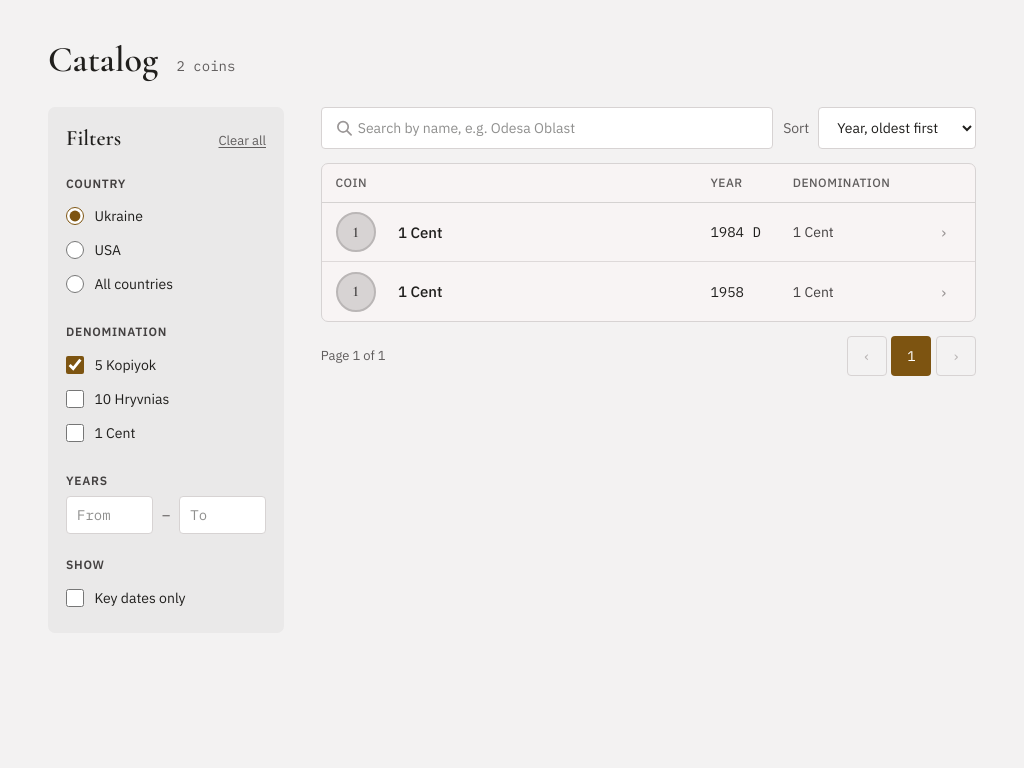
Test: CatalogPage › live filtering and URL sync (criteria #9, #10, #11) › changing country clears the ticked denominations in the same update
This screenshot has width=1024, height=768.
Click the radio button with test id "catalog-filter-country-USA".
click(75, 250)  # box [66,241,84,260]
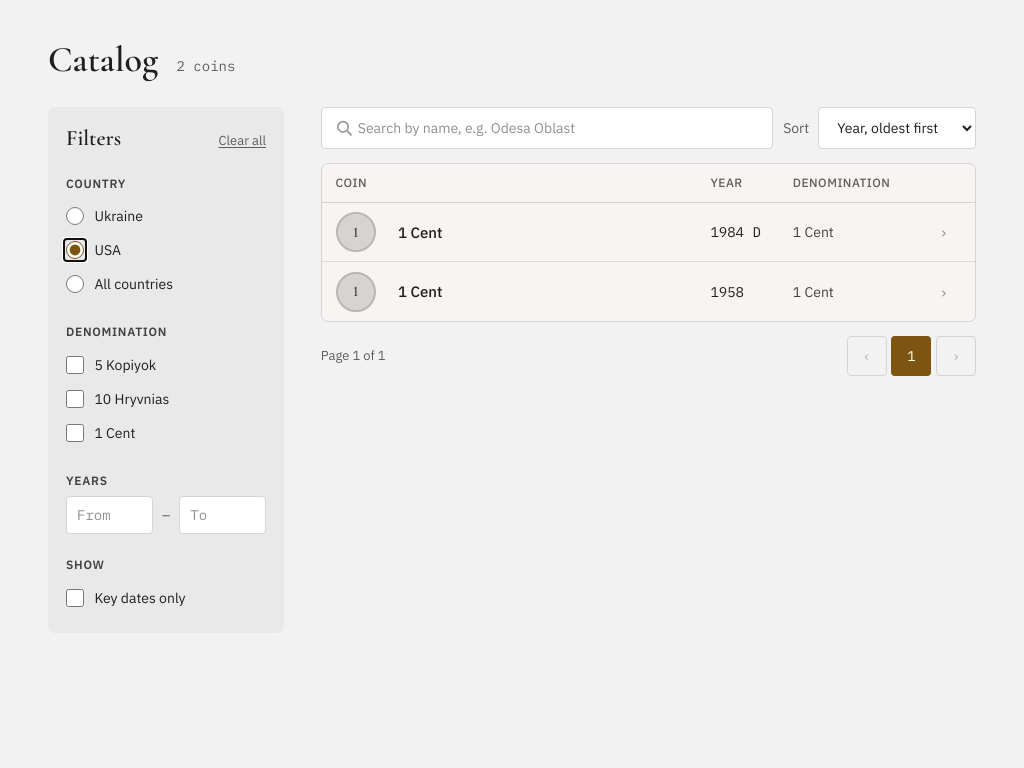
Expected: the checkbox with test id "catalog-filter-denomination-5 Kopiyok" is not checked, [66,356,84,374]
